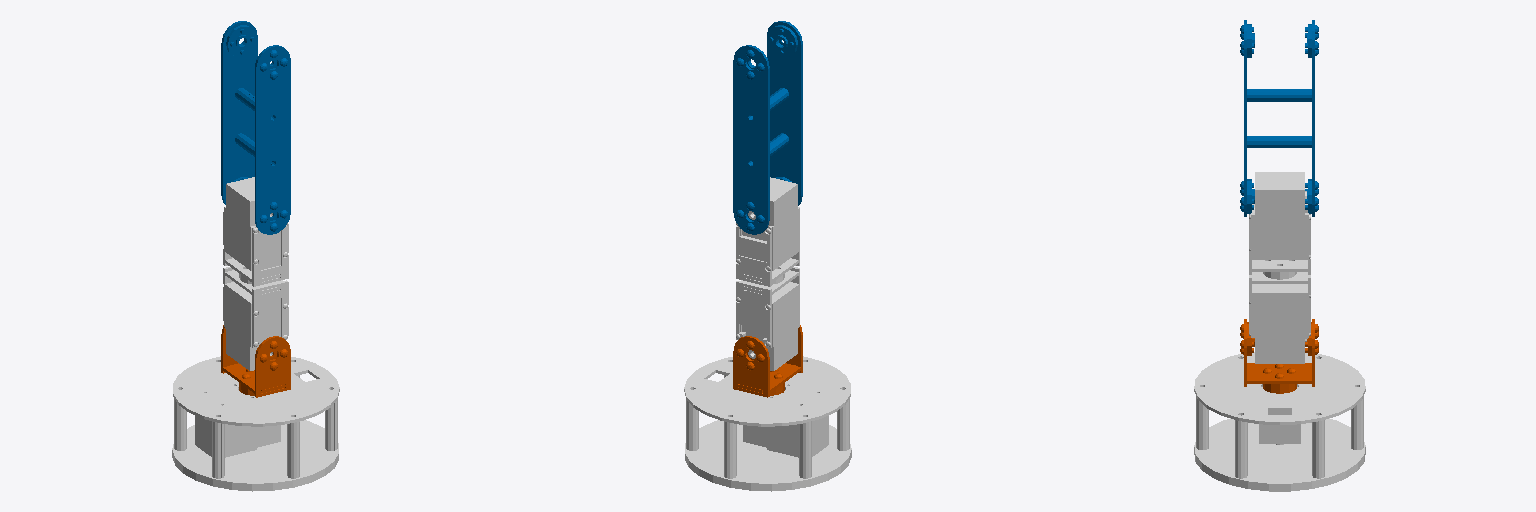
robot.urdf — arm4dof:
<?xml version="1.0" encoding="utf-8"?>
<robot name="arm4dof">
	<link name="hand_free">
		<inertial>
			<mass value="0.1620904614417843"/>
			<origin rpy="0 0 0" xyz="0.017572616560184332 0.02339311441352253 0.026468299189299327"/>
			<inertia ixx="0.00018855700831591377" ixy="-4.830126172258614e-07" ixz="-5.465079275041806e-07" iyy="0.000187250928272303" iyz="-2.5198409207287397e-05" izz="4.281226005568026e-05"/>
		</inertial>
		<collision name="hand_free_collision">
			<origin rpy="-2.775557561562892e-17 -0.0 -1.6653345369377348e-16" xyz="0.017899999999999687 -0.02061499999999994 -0.28825492591488516"/>
			<geometry>
				<mesh filename="package://arm4dof_description/meshes/hand_free.stl" scale="1.0 1.0 1.0"/>
			</geometry>
		</collision>
		<visual name="hand_free_visual">
			<origin rpy="-2.775557561562892e-17 -0.0 -1.6653345369377348e-16" xyz="0.017899999999999687 -0.02061499999999994 -0.28825492591488516"/>
			<geometry>
				<mesh filename="package://arm4dof_description/meshes/hand_free.stl" scale="1.0 1.0 1.0"/>
			</geometry>
		</visual>
	</link>
	<link name="hand_fixed">
		<inertial>
			<mass value="0.751568194075787"/>
			<origin rpy="0 0 0" xyz="-5.6146206526912286e-05 0.014623837021789394 0.050500760679562884"/>
			<inertia ixx="0.0011947772732698923" ixy="4.4418819288698735e-07" ixz="6.960611453683541e-07" iyy="0.0010027580082652434" iyz="0.00020241878082143146" izz="0.0002993282090664248"/>
		</inertial>
		<collision name="hand_fixed_collision">
			<origin rpy="-2.775557561562892e-17 -0.0 -1.6653345369377348e-16" xyz="1.7763104897573767e-13 0.017900074085115916 -0.2214699252666839"/>
			<geometry>
				<mesh filename="package://arm4dof_description/meshes/hand_fixed.stl" scale="1.0 1.0 1.0"/>
			</geometry>
		</collision>
		<visual name="hand_fixed_visual">
			<origin rpy="-2.775557561562892e-17 -0.0 -1.6653345369377348e-16" xyz="1.7763104897573767e-13 0.017900074085115916 -0.2214699252666839"/>
			<geometry>
				<mesh filename="package://arm4dof_description/meshes/hand_fixed.stl" scale="1.0 1.0 1.0"/>
			</geometry>
   <material name="gray_color">
    <color rgba="0.9 0.9 0.9 1"/>
   </material>
		</visual>
	</link>
	<link name="base_link">
		<inertial>
			<mass value="0.7502954240514383"/>
			<origin rpy="0 0 0" xyz="-0.004937927523443683 0.009208957460279816 -0.016228081827026272"/>
			<inertia ixx="0.0005378909087315135" ixy="-4.691853279065183e-09" ixz="2.725326277291962e-05" iyy="0.0005961167809316274" iyz="-4.538103118334469e-09" izz="0.0007381464012490534"/>
		</inertial>
		<collision name="base_collision">
			<origin rpy="-2.775557561562892e-17 -0.0 -1.6653345369377348e-16" xyz="-0.00011995981091706379 0.009207659539338428 0.0093276193502555"/>
			<geometry>
				<mesh filename="package://arm4dof_description/meshes/base.stl" scale="1.0 1.0 1.0"/>
			</geometry>
		</collision>
		<visual name="base_visual">
			<origin rpy="-2.775557561562892e-17 -0.0 -1.6653345369377348e-16" xyz="-0.00011995981091706379 0.009207659539338428 0.0093276193502555"/>
			<geometry>
				<mesh filename="package://arm4dof_description/meshes/base.stl" scale="1.0 1.0 1.0"/>
			</geometry>
   <material name="gray_color">
    <color rgba="0.9 0.9 0.9 1"/>
   </material>
		</visual>
	</link>
	<link name="upperarm">
		<inertial>
			<mass value="0.6184540010783673"/>
			<origin rpy="0 0 0" xyz="-1.0714196999224435e-13 0.01776341798186061 0.045784999999999944"/>
			<inertia ixx="0.0007486047984566099" ixy="1.4292386718572913e-18" ixz="1.6409276715201315e-15" iyy="0.0007223304624224873" iyz="1.7329745102934168e-09" izz="8.920848606753288e-05"/>
		</inertial>
		<collision name="upperarm_collision">
			<origin rpy="-2.775557561562892e-17 -0.0 -1.6653345369377348e-16" xyz="-2.0395198117167945e-16 0.017900000000000315 -0.029899925266684148"/>
			<geometry>
				<mesh filename="package://arm4dof_description/meshes/upperarm.stl" scale="1.0 1.0 1.0"/>
			</geometry>
		</collision>
		<visual name="upperarm_visual">
			<origin rpy="-2.775557561562892e-17 -0.0 -1.6653345369377348e-16" xyz="-2.0395198117167945e-16 0.017900000000000315 -0.029899925266684148"/>
			<geometry>
				<mesh filename="package://arm4dof_description/meshes/upperarm.stl" scale="1.0 1.0 1.0"/>
			</geometry>
   <material name="gray_color">
    <color rgba="0.9 0.9 0.9 1"/>
   </material>
		</visual>
	</link>
	<link name="forearm">
		<inertial>
			<mass value="0.13426852980149212"/>
			<origin rpy="0 0 0" xyz="-1.2664836627346299e-16 0.017392442591640973 0.04999999999235616"/>
			<inertia ixx="0.00021911210365257503" ixy="3.8541023671123666e-17" ixz="3.37924133120282e-19" iyy="0.00017873496544186906" iyz="3.1463720517876937e-16" izz="5.0200976219413196e-05"/>
		</inertial>
		<collision name="forearm_collision">
			<origin rpy="-2.775557561562892e-17 -0.0 -1.6653345369377348e-16" xyz="1.7761173662454027e-13 0.017900074085116357 -0.12146992526668443"/>
			<geometry>
				<mesh filename="package://arm4dof_description/meshes/forearm.stl" scale="1.0 1.0 1.0"/>
			</geometry>
		</collision>
		<visual name="forearm_visual">
			<origin rpy="-2.775557561562892e-17 -0.0 -1.6653345369377348e-16" xyz="1.7761173662454027e-13 0.017900074085116357 -0.12146992526668443"/>
			<geometry>
				<mesh filename="package://arm4dof_description/meshes/forearm.stl" scale="1.0 1.0 1.0"/>
			</geometry>
		</visual>
	</link>
	<link name="shoulder">
		<inertial>
			<mass value="0.07247169619111539"/>
			<origin rpy="0 0 0" xyz="2.1224455264886037e-08 -0.00043686829965988196 0.015614732084708382"/>
			<inertia ixx="2.7250025071365297e-05" ixy="2.1242883253228678e-13" ixz="-6.3137054992588175e-12" iyy="1.3689070309561062e-05" iyz="3.4429038406645353e-07" izz="1.898341756723466e-05"/>
		</inertial>
		<collision name="shoulder_collision">
			<origin rpy="-2.775557561562892e-17 -0.0 -1.6653345369377348e-16" xyz="2.7934011985787112e-08 1.734723475976807e-18 0.00020007408511598865"/>
			<geometry>
				<mesh filename="package://arm4dof_description/meshes/shoulder.stl" scale="1.0 1.0 1.0"/>
			</geometry>
		</collision>
		<visual name="shoulder_visual">
			<origin rpy="-2.775557561562892e-17 -0.0 -1.6653345369377348e-16" xyz="2.7934011985787112e-08 1.734723475976807e-18 0.00020007408511598865"/>
			<geometry>
				<mesh filename="package://arm4dof_description/meshes/shoulder.stl" scale="1.0 1.0 1.0"/>
			</geometry>
		</visual>
	</link>
	<joint name="rev0" type="revolute">
		<parent link="hand_fixed"/>
		<child link="hand_free"/>
		<origin rpy="0 0 0" xyz="-0.017899999999822058 0.038515074085115855 0.06678500064820125"/>
		<axis xyz="-1.0000000000000007 -5.5511151231176124e-17 -7.216449660063521e-16"/>
  <limit lower="-0.785" upper="0.785" effort="0" velocity="0"/>
	</joint>
	<joint name="rev1" type="revolute">
		<parent link="forearm"/>
		<child link="hand_fixed"/>
		<origin rpy="0 0 0" xyz="-1.9312351197398048e-17 4.388850394221322e-16 0.09999999999999948"/>
		<axis xyz="5.469212746514901e-15 -0.9999999999999988 4.0132109545040804e-15"/>
  <limit lower="-2.355" upper="2.355" effort="0" velocity="0"/>
	</joint>
	<joint name="rev2" type="revolute">
		<parent link="upperarm"/>
		<child link="forearm"/>
		<origin rpy="0 0 0" xyz="-1.7781568860571195e-13 -7.408511604189982e-08 0.09157000000000029"/>
		<axis xyz="-4.56250541873071e-15 -0.9999999999999984 4.013210954504077e-15"/>
  <limit lower="-2.355" upper="2.355" effort="0" velocity="0"/>
	</joint>
	<joint name="rev3" type="revolute">
		<parent link="shoulder"/>
		<child link="upperarm"/>
		<origin rpy="0 0 0" xyz="2.7934012189739094e-08 -0.01790000000000031 0.030099999351800136"/>
		<axis xyz="4.9960036108131995e-16 -0.9999999999999996 1.1662307446965333e-14"/>
  <limit lower="-2.355" upper="2.355" effort="0" velocity="0"/>
	</joint>
	<joint name="rev4" type="revolute">
		<parent link="base_link"/>
		<child link="shoulder"/>
		<origin rpy="0 0 0" xyz="-0.00011998774492904957 0.009207659539338426 0.009127545265139512"/>
		<axis xyz="1.1102230246251564e-16 -2.7660707925536432e-17 0.9999999999999997"/>
  <limit lower="-3.14" upper="3.14" effort="0" velocity="0"/>
	</joint>
</robot>

--- Facts derived from the render (not from the file) ---
Views: 3 orthographic renders of the robot side by side, from view 1: azimuth 30°, elevation 25°; view 2: azimuth 150°, elevation 25°; view 3: azimuth 270°, elevation 25°.
Model arm4dof with 6 links and 5 joints (5 revolute), rooted at base_link, posed all joints at 0.
Visible links, largest first — view 1: base_link, forearm, upperarm, shoulder; view 2: base_link, forearm, upperarm, shoulder; view 3: base_link, upperarm, forearm, shoulder.
Boxes of the visible links, x1=… form: base_link: x1=172, y1=356, x2=339, y2=491; forearm: x1=221, y1=21, x2=290, y2=234; upperarm: x1=223, y1=177, x2=288, y2=370; shoulder: x1=221, y1=325, x2=290, y2=397; base_link: x1=684, y1=356, x2=851, y2=491; forearm: x1=733, y1=21, x2=802, y2=234; upperarm: x1=736, y1=177, x2=799, y2=370; shoulder: x1=733, y1=325, x2=802, y2=397; base_link: x1=1194, y1=352, x2=1365, y2=491; upperarm: x1=1249, y1=172, x2=1310, y2=363; forearm: x1=1240, y1=20, x2=1318, y2=216; shoulder: x1=1240, y1=319, x2=1318, y2=393.
Size in the robot's own frame: 0.1 by 0.0998 by 0.2779 metres.
4 mesh visuals loaded from 6 distinct referenced files (4 binary STL); not drawn: 2 (reference not matched to a file when rendering).